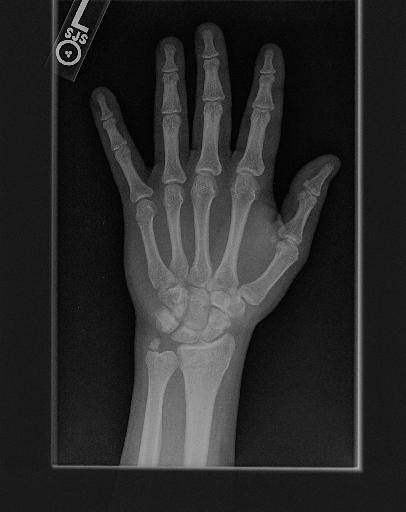fractured: (170, 352, 225, 378)
